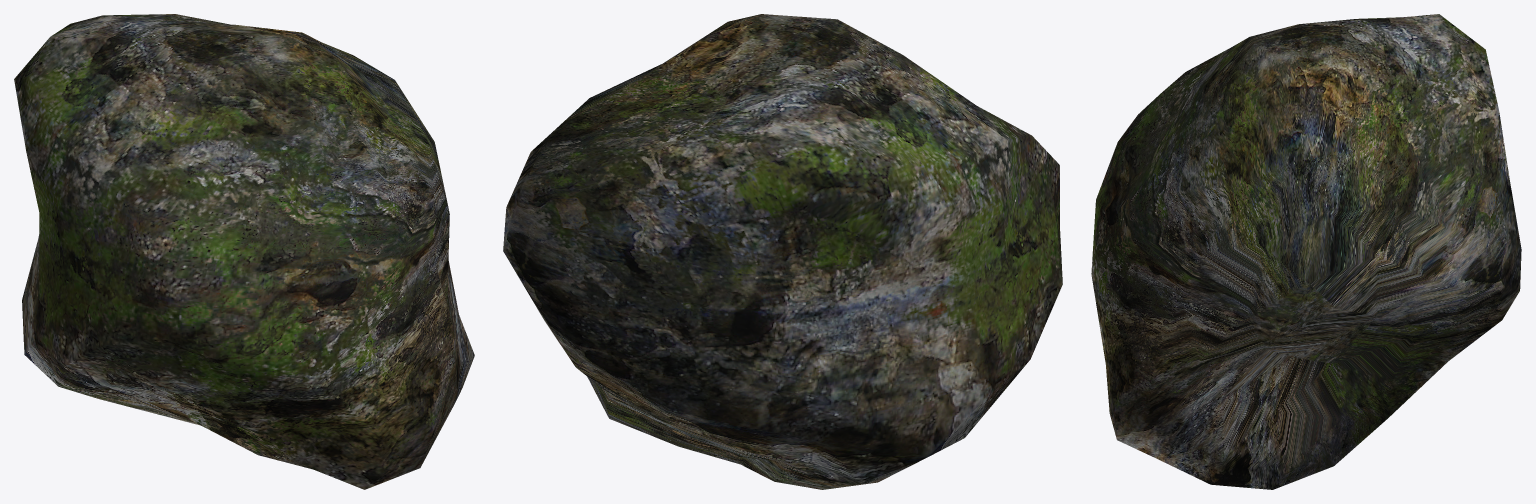
Rendered from Rock.FBX.
The picture shows the model from 3 angles, left to right: view 1: azimuth 30°, elevation 25°; view 2: azimuth 150°, elevation 25°; view 3: azimuth 270°, elevation 25°; orthographic projection. The views are drawn at different scales.
Parts seen in each view (by area): view 1: GeoSphere001; view 2: GeoSphere001; view 3: GeoSphere001.
Boxes of the visible parts, x1=… form: GeoSphere001: x1=14, y1=14, x2=474, y2=489; GeoSphere001: x1=503, y1=14, x2=1062, y2=489; GeoSphere001: x1=1091, y1=14, x2=1521, y2=489.
Bounding box in the file's own units: 402 × 399 × 400.
Materials: 1 (1 with a texture image).
